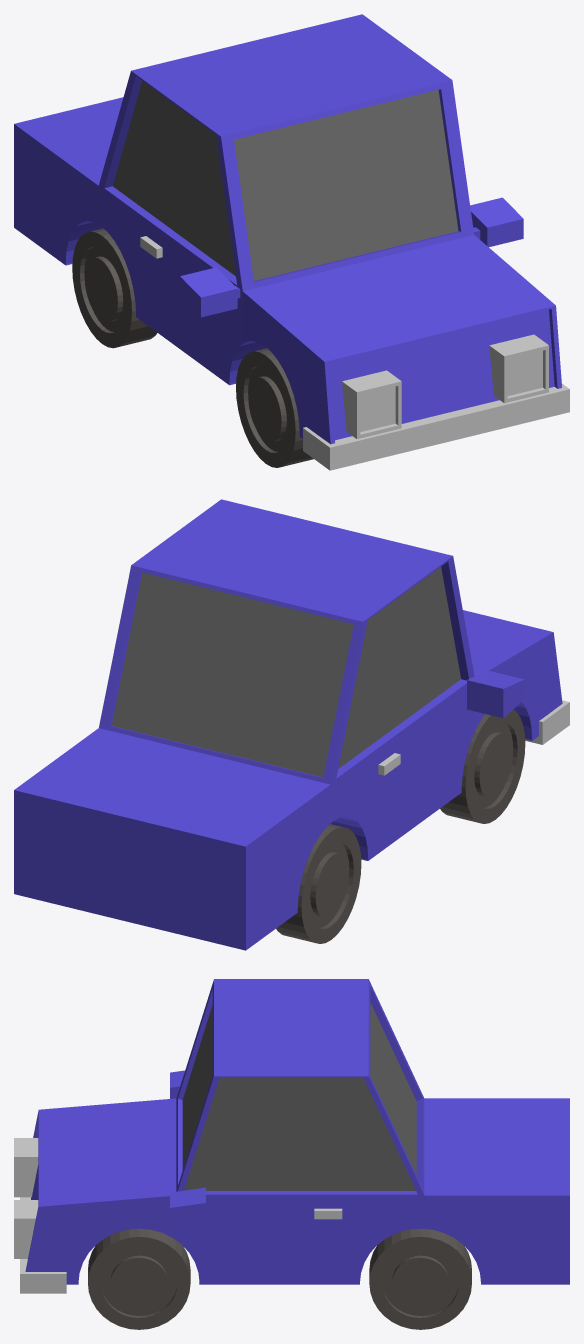
File: my first ever blender project(car model).glb
The picture shows the model from 3 angles, top to bottom: view 1: azimuth 30°, elevation 25°; view 2: azimuth 150°, elevation 25°; view 3: azimuth 270°, elevation 25°; orthographic projection. The views are drawn at different scales.
Parts seen in each view (by area): view 1: car body, wheel, car bumper, front light, side mirror; view 2: car body, wheel, side mirror, car bumper; view 3: car body, wheel, front light, side mirror, car bumper.
Part boxes in pixels (x1,y1,x2,y2): car body: (14, 14, 561, 444); wheel: (72, 228, 313, 467); car bumper: (303, 383, 569, 470); front light: (342, 334, 548, 438); side mirror: (180, 197, 523, 317); car body: (14, 499, 562, 950); wheel: (276, 709, 525, 943); side mirror: (467, 670, 524, 718); car bumper: (525, 700, 569, 744); car body: (25, 979, 569, 1284); wheel: (88, 1228, 471, 1329); front light: (14, 1138, 38, 1258); side mirror: (170, 1070, 205, 1227); car bumper: (20, 1197, 66, 1293).
Size of what is drawn, in the model's own units: 2.79 by 2.44 by 4.84.
